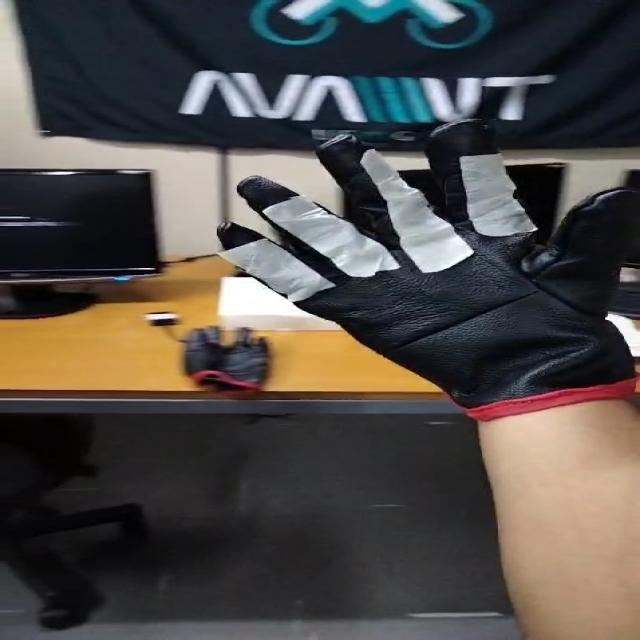Gloves: (204, 119, 640, 402)
